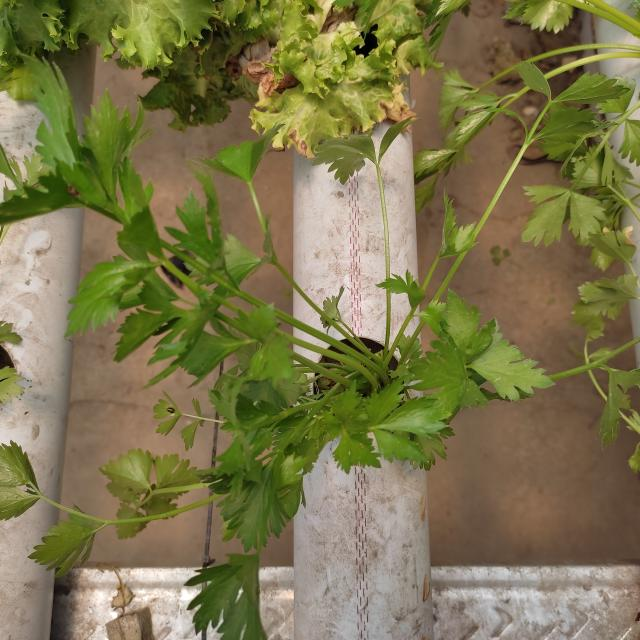Wet Waste: (86, 163, 540, 532)
